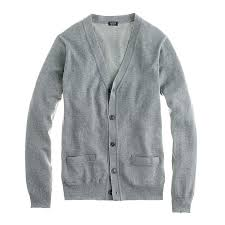C_cardigan sweater: (14, 10, 195, 225)
